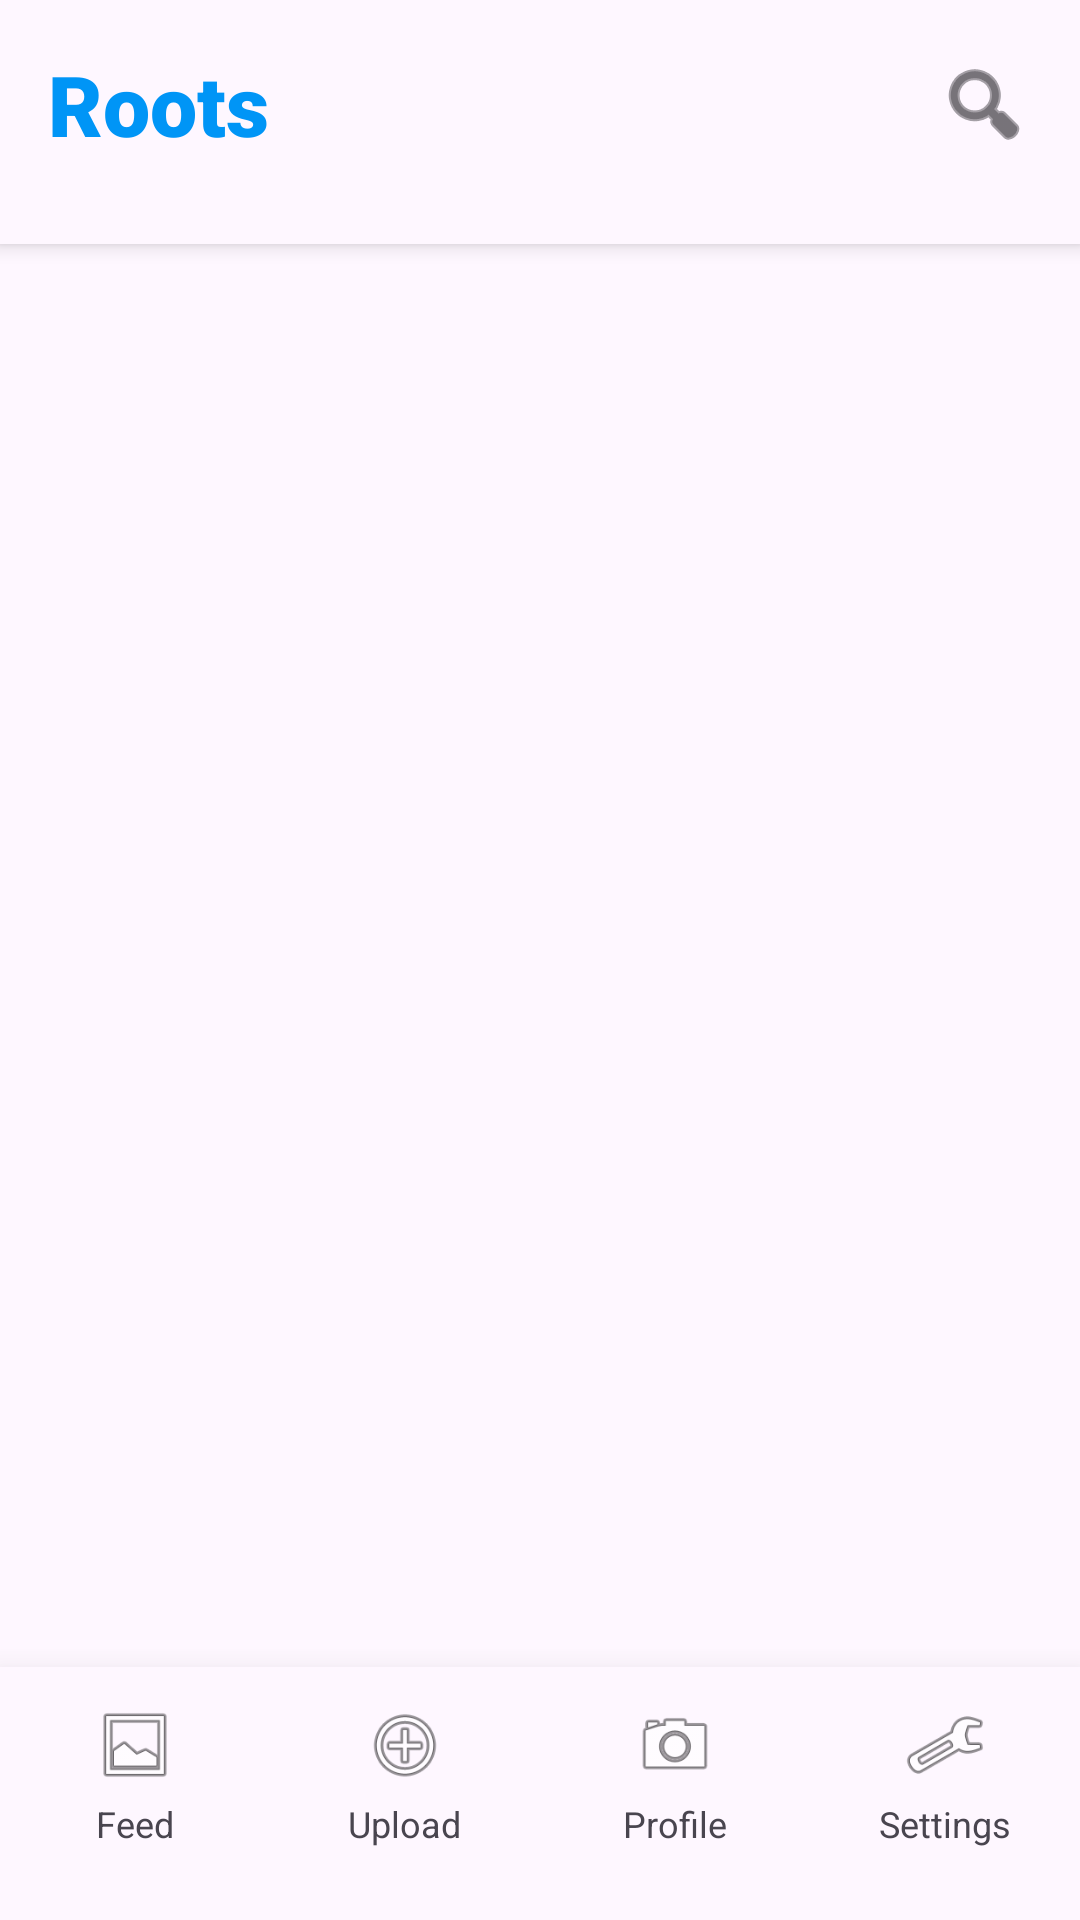

Icon bounding boxes for this 1080*1920 phone screenshot, format (x1, y1, x2, y2):
add: (374, 1714, 436, 1777)
camera: (642, 1718, 708, 1770)
gallery: (103, 1713, 167, 1777)
search: (948, 69, 1019, 140)
